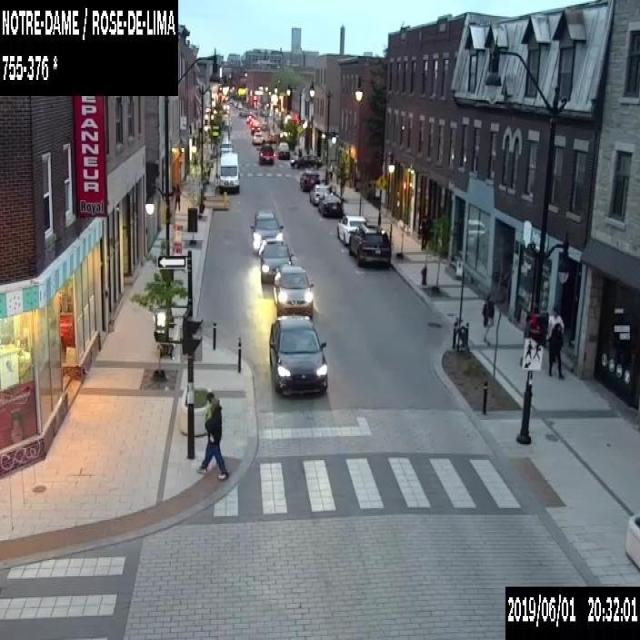pedestrian: (196, 392, 228, 477), (544, 321, 564, 376), (481, 292, 495, 344), (546, 306, 563, 335), (174, 182, 180, 210)
vehicle: (268, 315, 327, 395), (272, 264, 313, 317), (348, 223, 391, 264), (260, 238, 292, 283), (250, 212, 282, 253), (336, 214, 365, 244), (218, 152, 239, 192), (318, 192, 342, 215), (289, 154, 321, 168), (299, 169, 319, 191), (308, 184, 329, 204), (255, 144, 274, 164), (276, 142, 289, 158), (220, 140, 232, 154), (238, 108, 253, 117), (252, 132, 262, 144), (250, 122, 259, 133), (246, 114, 252, 122)
